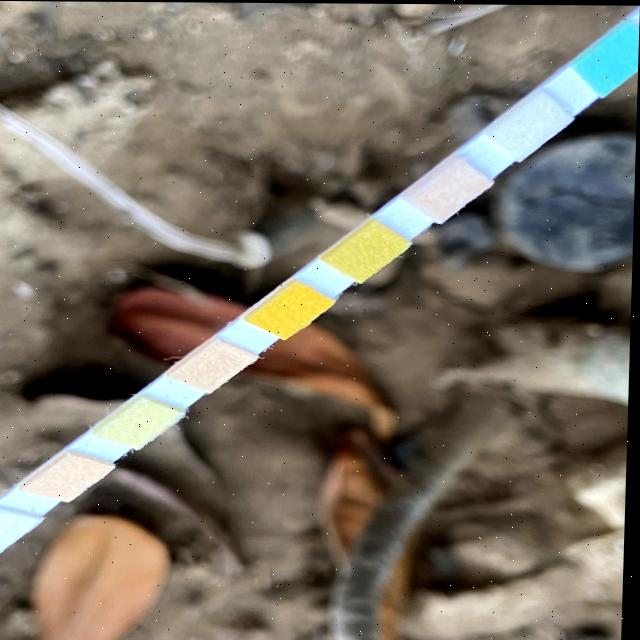Bilirubin: (508, 112, 546, 140)
Blood: (271, 299, 314, 321)
Glucose: (595, 43, 634, 73)
Ketone: (433, 175, 469, 202)
Nitrite: (0, 522, 16, 544)
Protein: (121, 414, 161, 434)
SpGravity: (348, 238, 387, 265)
Urobilinogen: (48, 467, 89, 489)
pH: (192, 356, 231, 378)
